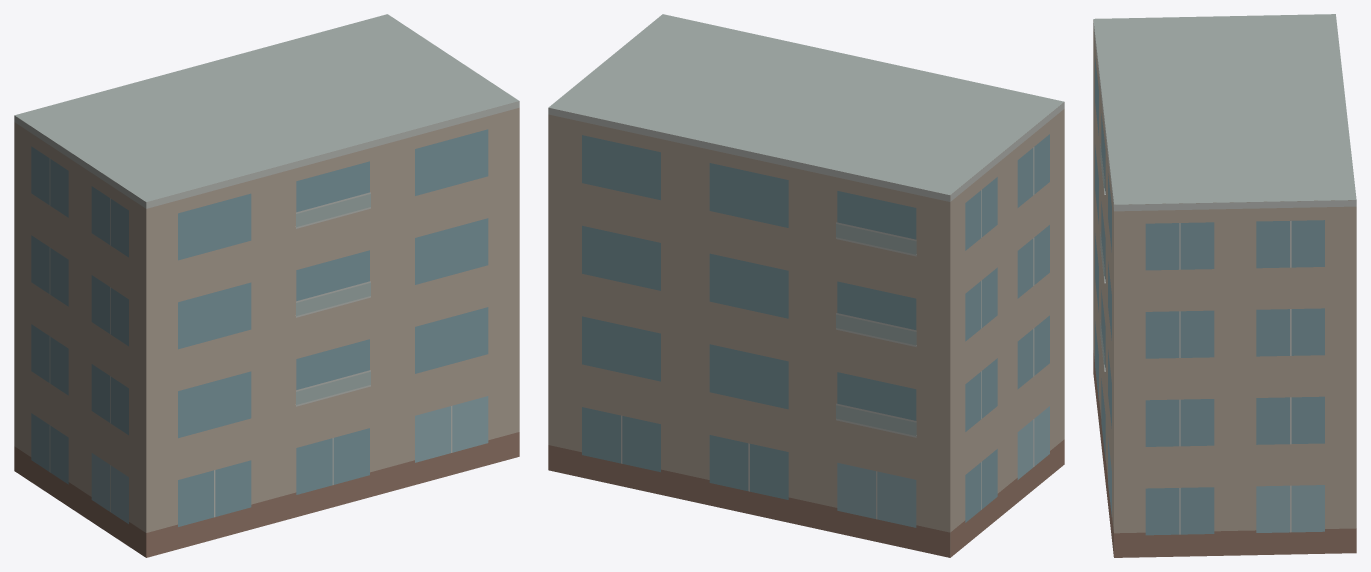
File: survey-upis-32742102.glb
The picture shows the model from 3 angles, left to right: view 1: azimuth 30°, elevation 25°; view 2: azimuth 150°, elevation 25°; view 3: azimuth 270°, elevation 25°; orthographic projection. The views are drawn at different scales.
Parts seen in each view (by area): view 1: survey-upis-32742102.tmp; view 2: survey-upis-32742102.tmp; view 3: survey-upis-32742102.tmp.
Part boxes in pixels (x1=…): survey-upis-32742102.tmp: x1=14, y1=14, x2=519, y2=557; survey-upis-32742102.tmp: x1=548, y1=14, x2=1064, y2=557; survey-upis-32742102.tmp: x1=1093, y1=14, x2=1356, y2=557.
Bounding box in the file's own units: 15.08 × 13.01 × 8.8.
